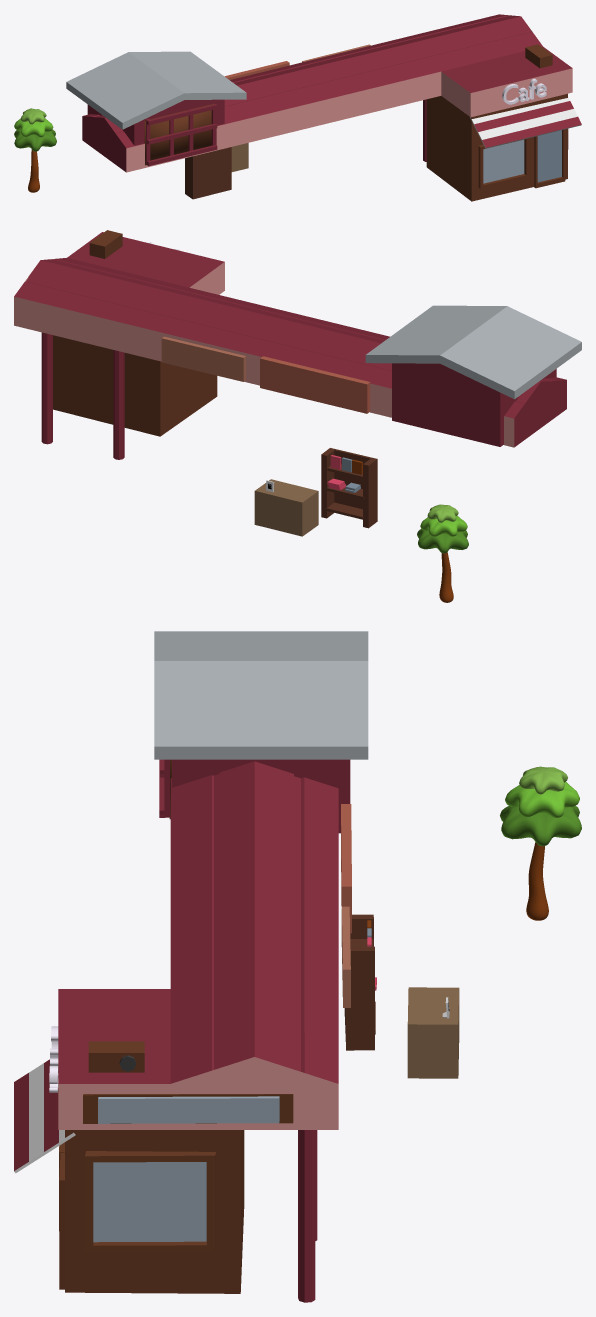
Rendered from Commercial4.fbx.
The picture shows the model from 3 angles, top to bottom: view 1: azimuth 30°, elevation 25°; view 2: azimuth 150°, elevation 25°; view 3: azimuth 270°, elevation 25°; orthographic projection. The views are drawn at different scales.
Parts seen in each view (by area): view 1: Main Complex, Magazine stand, tree3.001, Magazine shop table; view 2: Main Complex, Magazine stand, Magazine shop table, tree3.001; view 3: Main Complex, tree3.001, Magazine shop table, Magazine stand.
Part boxes in pixels (x1=…): Main Complex: x1=66, y1=14, x2=581, y2=201; Magazine stand: x1=185, y1=147, x2=231, y2=199; tree3.001: x1=14, y1=108, x2=56, y2=192; Magazine shop table: x1=231, y1=143, x2=248, y2=171; Main Complex: x1=14, y1=230, x2=581, y2=459; Magazine stand: x1=321, y1=448, x2=377, y2=528; Magazine shop table: x1=254, y1=479, x2=318, y2=536; tree3.001: x1=417, y1=504, x2=468, y2=602; Main Complex: x1=14, y1=631, x2=368, y2=1302; tree3.001: x1=500, y1=766, x2=581, y2=920; Magazine shop table: x1=407, y1=987, x2=459, y2=1078; Magazine stand: x1=344, y1=914, x2=376, y2=1050.
Size of the model in its own units: 260 by 95.86 by 155.
